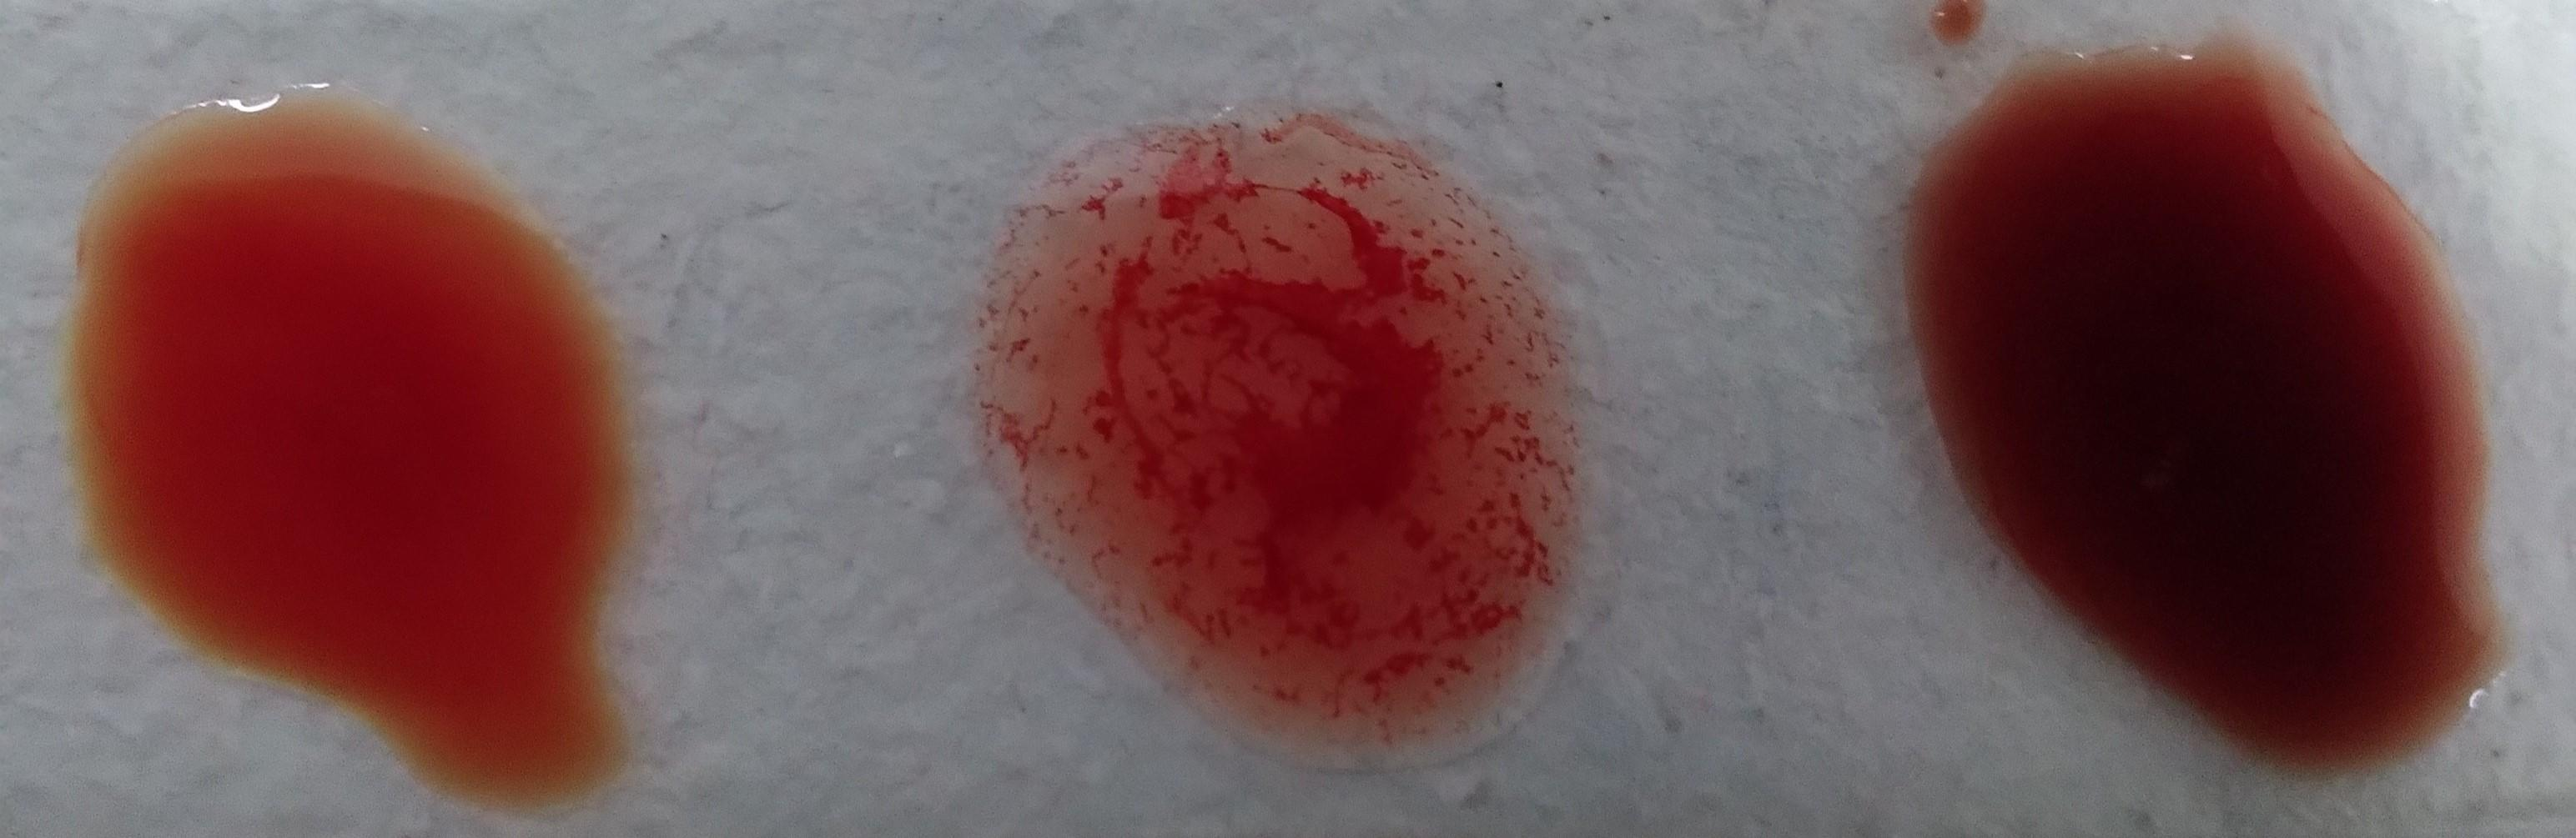D: (986, 135, 1575, 759)
